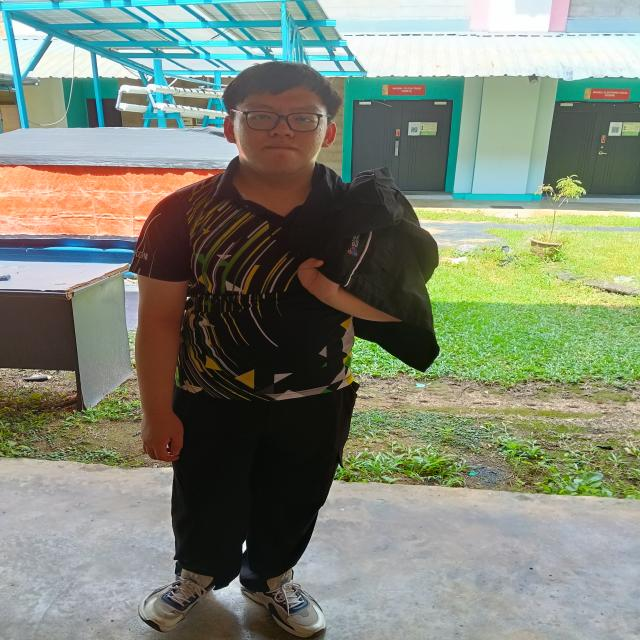person_without_labcoat: (130, 61, 439, 637)
